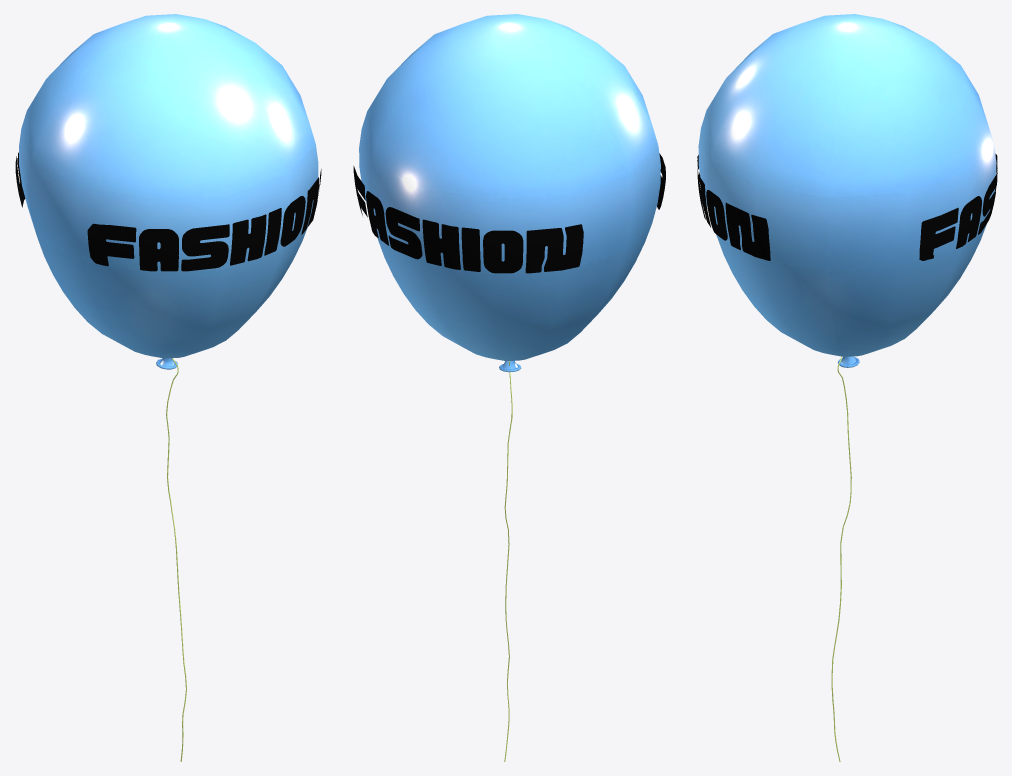
Rendered from balloon2.glb.
The picture shows the model from 3 angles, left to right: view 1: azimuth 30°, elevation 25°; view 2: azimuth 150°, elevation 25°; view 3: azimuth 270°, elevation 25°; orthographic projection.
Visible parts, largest first — view 1: balloon02; view 2: balloon02; view 3: balloon02.
Boxes of the visible parts, x1=… form: balloon02: x1=15, y1=14, x2=321, y2=761; balloon02: x1=353, y1=14, x2=665, y2=761; balloon02: x1=697, y1=14, x2=997, y2=761.
Size of what is drawn, in the model's own units: 6.52 by 17.67 by 6.59.
3 materials, 3 textured.
